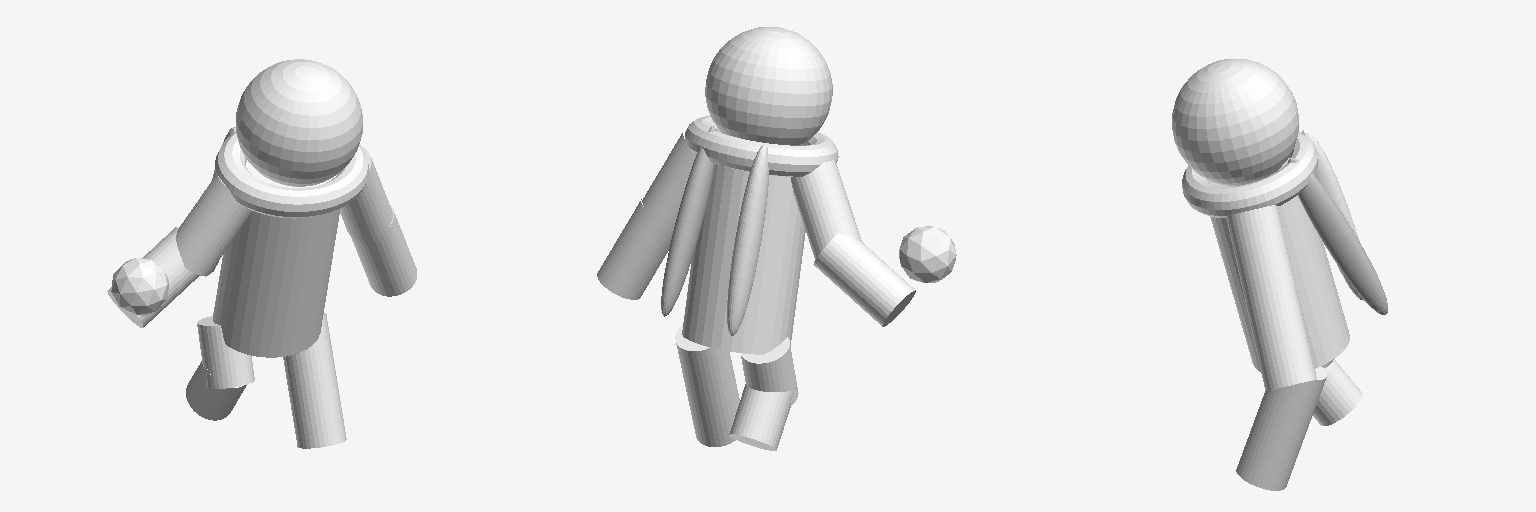
The model's file is usirohito.obj.
The picture shows the model from 3 angles: view 1: azimuth 30°, elevation 25°; view 2: azimuth 150°, elevation 25°; view 3: azimuth 270°, elevation 25°; orthographic projection.
Visible parts, largest first — view 1: 円柱, 球_球.001, トーラス, 円柱.009_円柱.011, 円柱.006, 円柱.011_円柱.013, ICO球, 円柱.008_円柱.009, 円柱.010_円柱.012, 円柱.003, 円柱.002, 円柱.004_円柱.008; view 2: 円柱, 球_球.001, 円柱.002, トーラス, 立方体.001_立方体.002, 円柱.011_円柱.013, 円柱.009_円柱.011, 立方体.001_立方体.001, 円柱.004_円柱.008, 円柱.003, 円柱.010_円柱.012, ICO球 (+2 smaller); view 3: 球_球.001, 円柱, 円柱.011_円柱.013, トーラス, 円柱.010_円柱.012, 立方体.001_立方体.001, 円柱.006, 円柱.003, 円柱.004_円柱.008, 立方体.001_立方体.002.
Boxes of the visible parts, box(x1,y1,x2,y2) form: 円柱: box(213, 160, 340, 357); 球_球.001: box(236, 59, 362, 186); トーラス: box(215, 133, 368, 218); 円柱.009_円柱.011: box(176, 175, 252, 276); 円柱.006: box(288, 378, 346, 448); 円柱.011_円柱.013: box(351, 205, 416, 296); ICO球: box(111, 258, 168, 315); 円柱.008_円柱.009: box(197, 316, 254, 388); 円柱.010_円柱.012: box(340, 147, 392, 242); 円柱.003: box(283, 313, 336, 385); 円柱.002: box(107, 227, 199, 327); 円柱.004_円柱.008: box(186, 361, 246, 420); 円柱: box(682, 164, 805, 354); 球_球.001: box(705, 27, 832, 145); 円柱.002: box(813, 233, 915, 326); トーラス: box(685, 116, 838, 176); 立方体.001_立方体.002: box(727, 145, 768, 335); 円柱.011_円柱.013: box(597, 196, 672, 299); 円柱.009_円柱.011: box(791, 160, 861, 259); 立方体.001_立方体.001: box(661, 126, 716, 316); 円柱.004_円柱.008: box(729, 384, 795, 450); 円柱.003: box(675, 325, 734, 399); 円柱.010_円柱.012: box(642, 129, 695, 231); ICO球: box(899, 226, 956, 282); 球_球.001: box(1172, 59, 1298, 185); 円柱: box(1210, 158, 1349, 371); 円柱.011_円柱.013: box(1245, 288, 1316, 390); トーラス: box(1182, 132, 1317, 217); 円柱.010_円柱.012: box(1226, 205, 1297, 299); 立方体.001_立方体.001: box(1288, 158, 1387, 314); 円柱.006: box(1236, 415, 1305, 490); 円柱.003: box(1257, 366, 1326, 435); 円柱.004_円柱.008: box(1313, 359, 1362, 425); 立方体.001_立方体.002: box(1301, 130, 1363, 300).
Size of the model in its own units: 5.85 by 6.96 by 3.38.